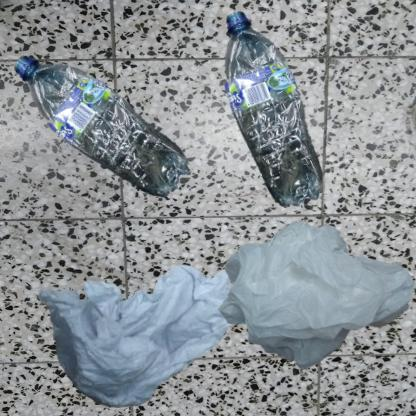bolsa: (213, 213, 416, 385)
botella: (10, 10, 246, 296), (213, 10, 338, 216)
papel: (10, 213, 265, 416)
